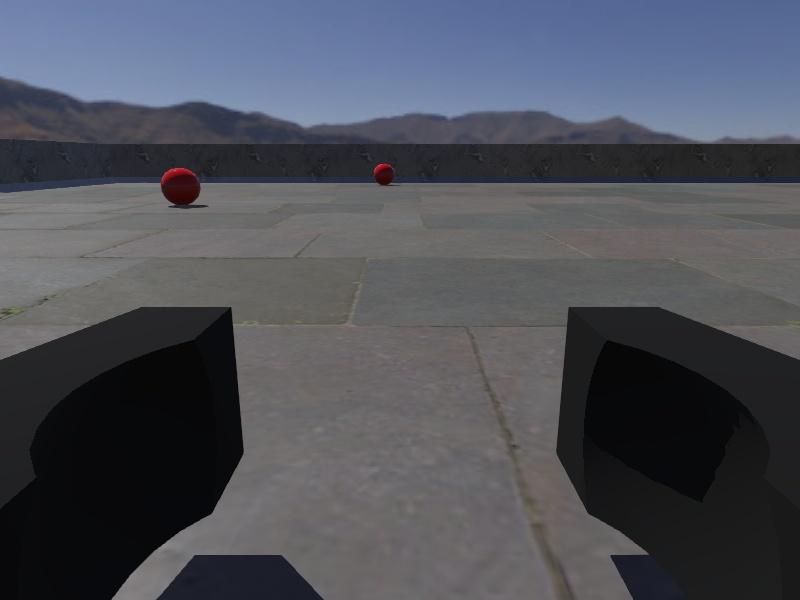red ball: (159, 166, 202, 206), (372, 162, 396, 185)
